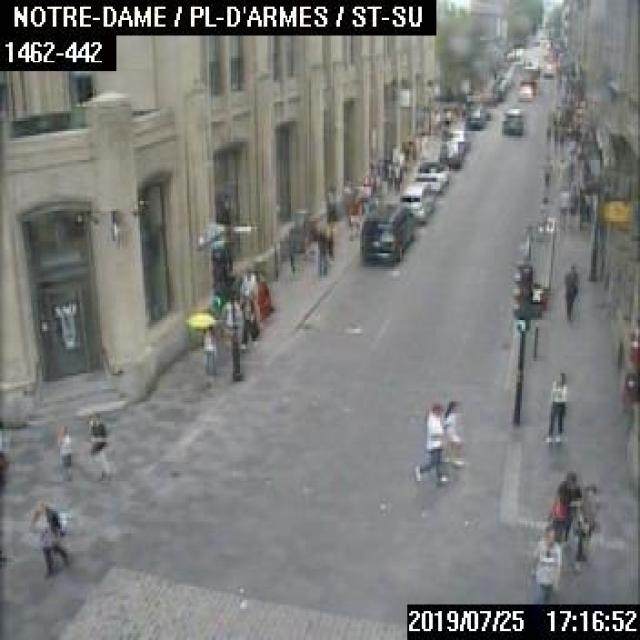pedestrian: (26, 498, 68, 576), (411, 396, 448, 484), (572, 483, 604, 569), (549, 469, 580, 555), (531, 522, 561, 602), (441, 398, 467, 484), (185, 312, 218, 376), (86, 409, 114, 478), (544, 369, 567, 442), (217, 298, 244, 356), (236, 284, 260, 346), (346, 189, 374, 231), (562, 264, 578, 322), (56, 422, 71, 471), (316, 227, 333, 269), (555, 187, 567, 229), (384, 160, 400, 191)
vehicle: (358, 202, 415, 262), (398, 182, 435, 222), (414, 158, 449, 194), (437, 138, 463, 168), (502, 105, 524, 134), (447, 128, 468, 150), (464, 107, 483, 127), (515, 80, 534, 100)
